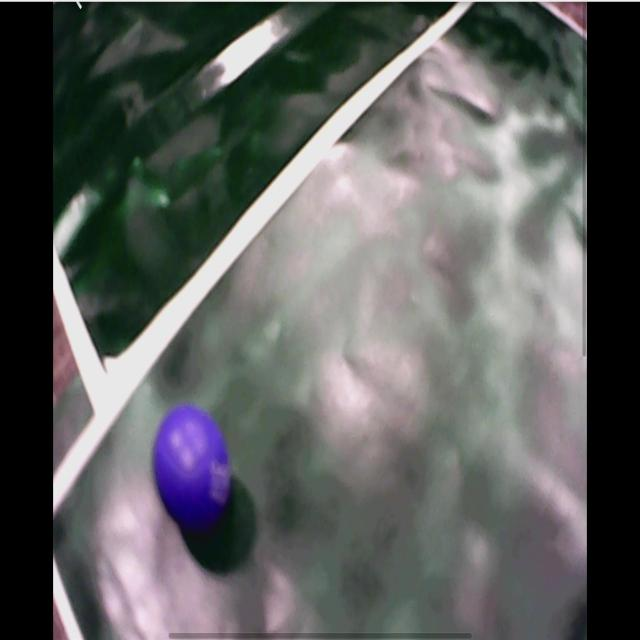ball: (154, 406, 232, 526)
